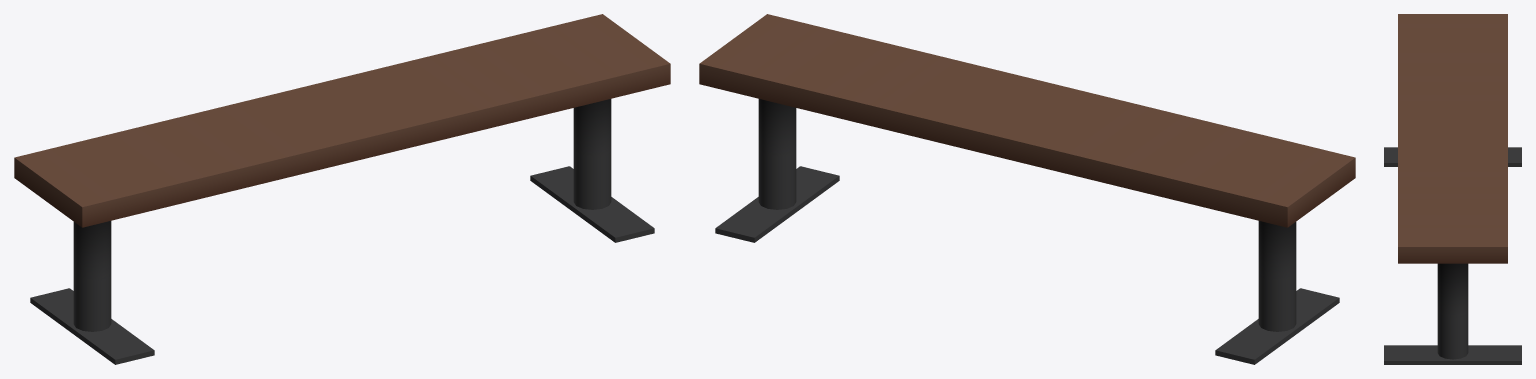
Rendered from LockerBench.fbx.
The picture shows the model from 3 angles, left to right: view 1: azimuth 30°, elevation 25°; view 2: azimuth 150°, elevation 25°; view 3: azimuth 270°, elevation 25°; orthographic projection. The views are drawn at different scales.
Visible parts, largest first — view 1: LockerBench; view 2: LockerBench; view 3: LockerBench.
Part boxes in pixels (<box>): LockerBench: <box>14,14,670,364</box>; LockerBench: <box>699,14,1355,364</box>; LockerBench: <box>1384,14,1521,364</box>.
Size of the model in its own units: 120 by 30.69 by 30.
